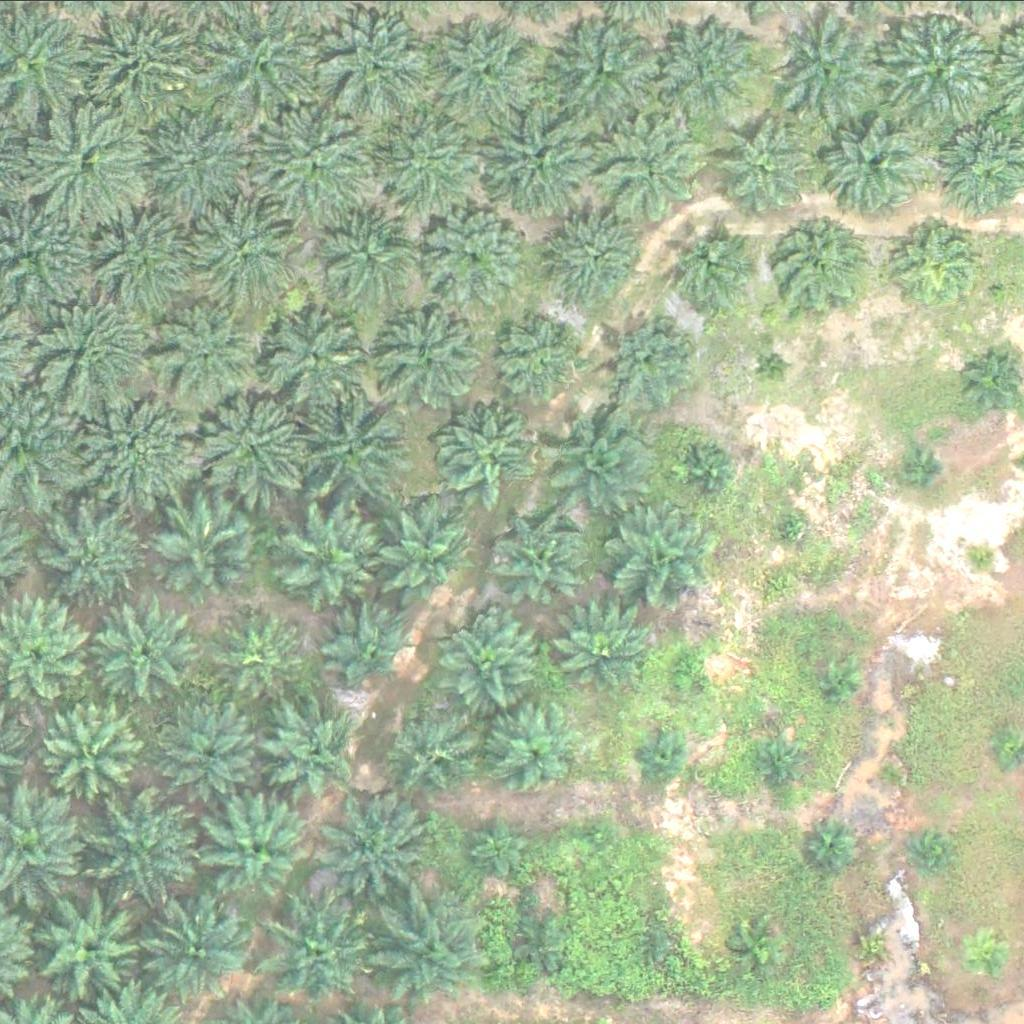Kelapa_Sawit: (72, 382, 198, 507), (37, 291, 163, 416), (476, 98, 602, 223), (369, 101, 495, 226), (247, 101, 373, 226), (27, 99, 153, 224), (191, 1, 317, 126), (540, 7, 666, 132), (189, 387, 314, 512), (877, 9, 1002, 134), (151, 110, 265, 223), (321, 790, 434, 903), (91, 792, 204, 905), (300, 390, 413, 503), (549, 399, 662, 512), (433, 14, 546, 127), (654, 12, 767, 125), (772, 15, 885, 128), (265, 892, 378, 1004), (373, 896, 486, 1008), (599, 111, 712, 223), (373, 505, 474, 605), (442, 610, 543, 710), (166, 699, 267, 799), (260, 699, 361, 799), (379, 706, 480, 806), (206, 798, 307, 898), (42, 894, 143, 994), (139, 901, 240, 1001), (440, 404, 541, 504), (388, 307, 489, 407), (267, 309, 368, 409), (155, 304, 256, 404), (197, 196, 298, 296), (426, 203, 527, 303), (551, 207, 652, 307), (705, 121, 806, 221), (822, 110, 923, 210), (660, 218, 761, 318), (766, 216, 867, 316), (887, 211, 988, 311), (614, 505, 715, 605), (49, 505, 149, 605), (157, 497, 257, 597), (283, 509, 383, 609), (99, 598, 199, 698), (44, 701, 144, 801), (90, 215, 190, 315), (554, 602, 654, 702), (327, 602, 415, 690), (219, 609, 307, 697), (497, 515, 585, 603), (331, 212, 419, 300), (494, 705, 583, 792), (605, 316, 694, 403), (498, 317, 586, 404), (462, 814, 525, 876), (731, 922, 782, 972), (811, 825, 862, 875), (968, 930, 1019, 980), (682, 447, 733, 497), (840, 917, 891, 967), (520, 915, 570, 965), (756, 741, 806, 791), (633, 728, 683, 778), (668, 650, 706, 688), (819, 659, 857, 697), (775, 507, 813, 545), (756, 345, 794, 383), (965, 539, 1003, 577), (635, 922, 673, 959), (580, 817, 618, 854), (904, 456, 942, 493), (865, 759, 903, 796), (915, 833, 952, 870)
